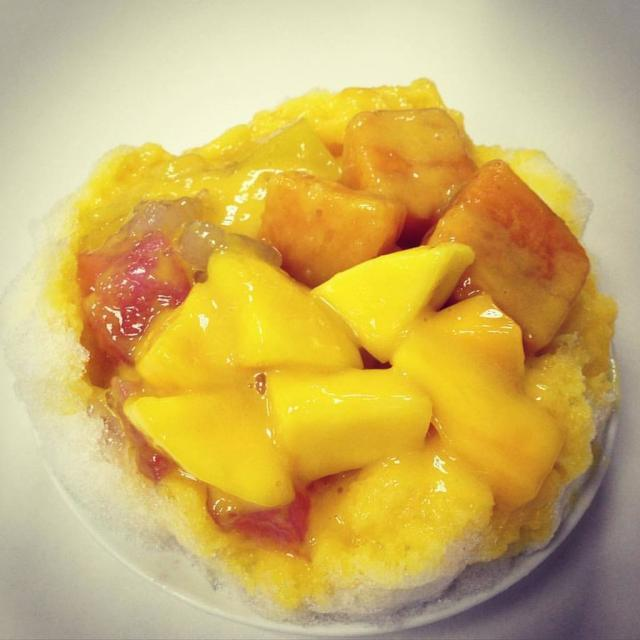Mango: (51, 78, 614, 609), (128, 256, 435, 504), (313, 255, 471, 367)
